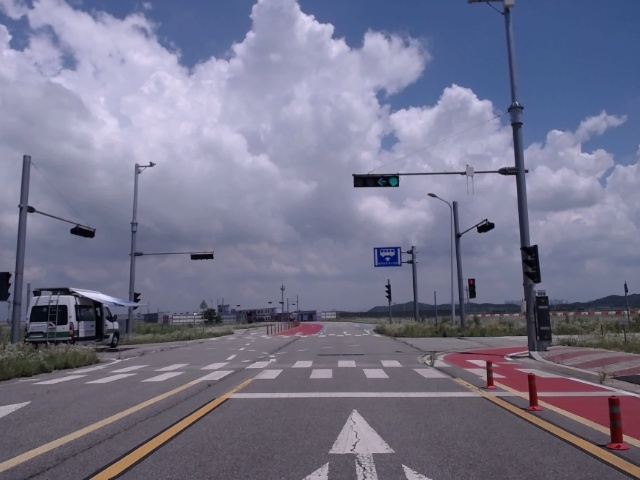all_green_4: (354, 174, 403, 186)
